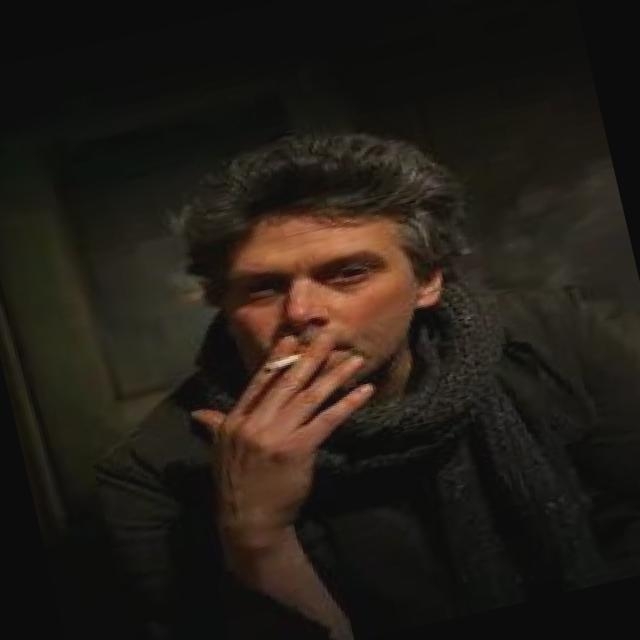cigarette: (251, 340, 326, 376)
